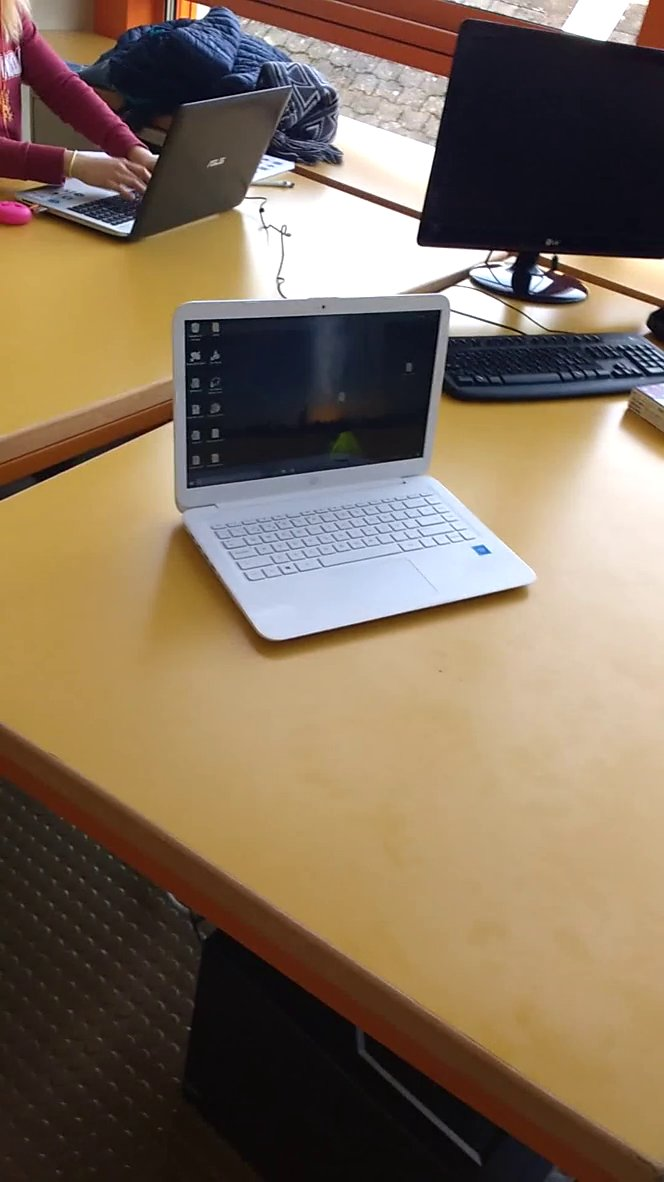laptop: (168, 287, 566, 659), (5, 76, 301, 252)
